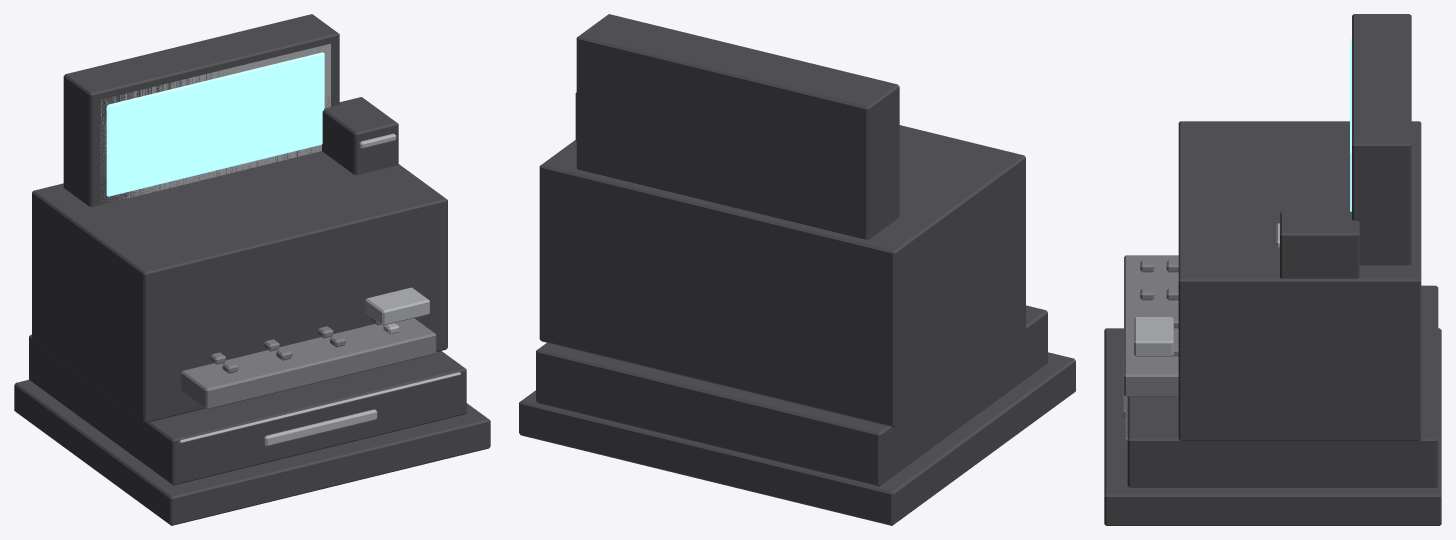
File: prop_register_01.glb
3 views of the same model, side by side, from view 1: azimuth 30°, elevation 25°; view 2: azimuth 150°, elevation 25°; view 3: azimuth 270°, elevation 25° (orthographic). The views are drawn at different scales.
Parts seen in each view (by area): view 1: prop_register_01; view 2: prop_register_01; view 3: prop_register_01.
Part boxes in pixels (x1,y1,x2,y2): prop_register_01: [14, 14, 490, 525]; prop_register_01: [519, 14, 1075, 525]; prop_register_01: [1104, 14, 1441, 525].
Size of the model in its own units: 0.4 by 0.405 by 0.34.
